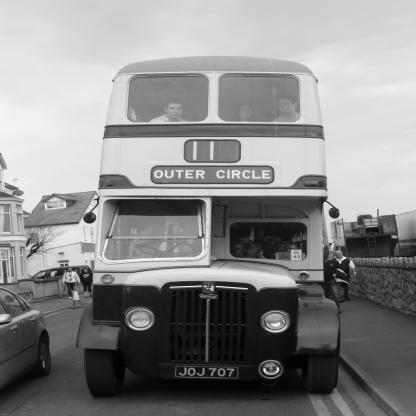bus: (65, 38, 384, 409)
